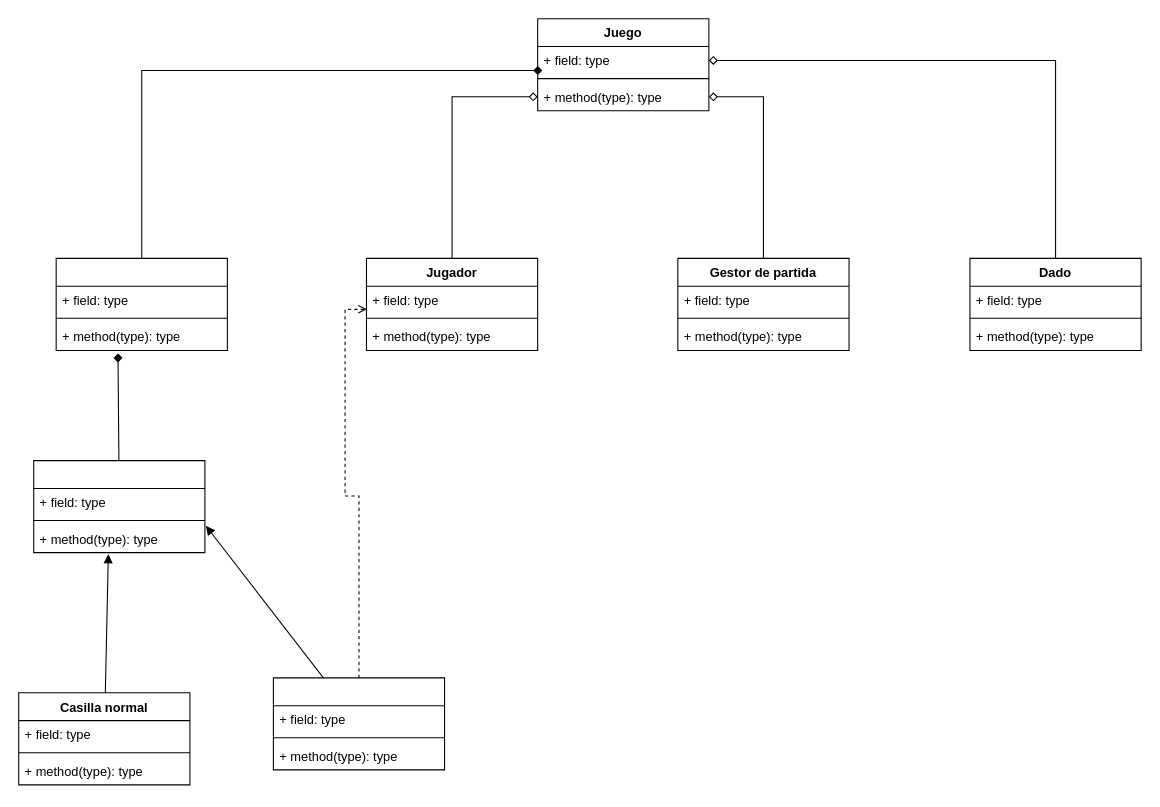
The diagram is 1160 pixels wide and 807 high, and some of its shapes have lost their labels. Each missing label, with the box of its shape:
Casilla: (33, 460, 205, 553)
Casilla especial: (272, 677, 445, 770)
Tablero: (55, 257, 227, 350)
